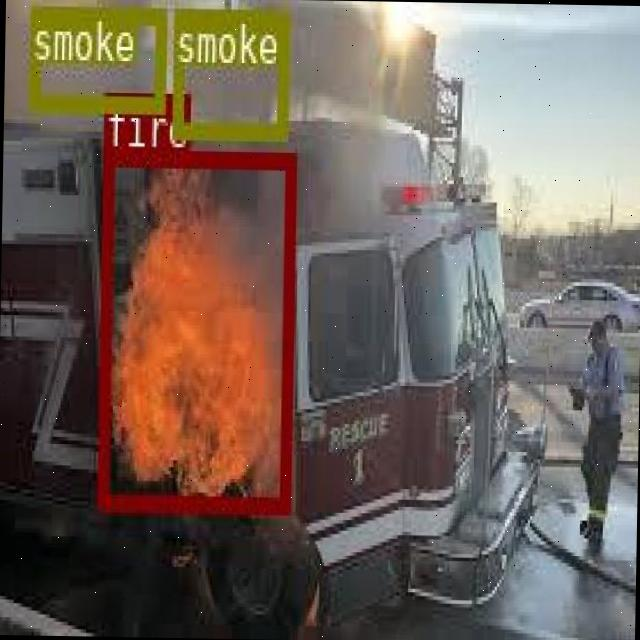fire: (98, 146, 293, 508)
smoke: (170, 6, 288, 138), (28, 3, 162, 109)
